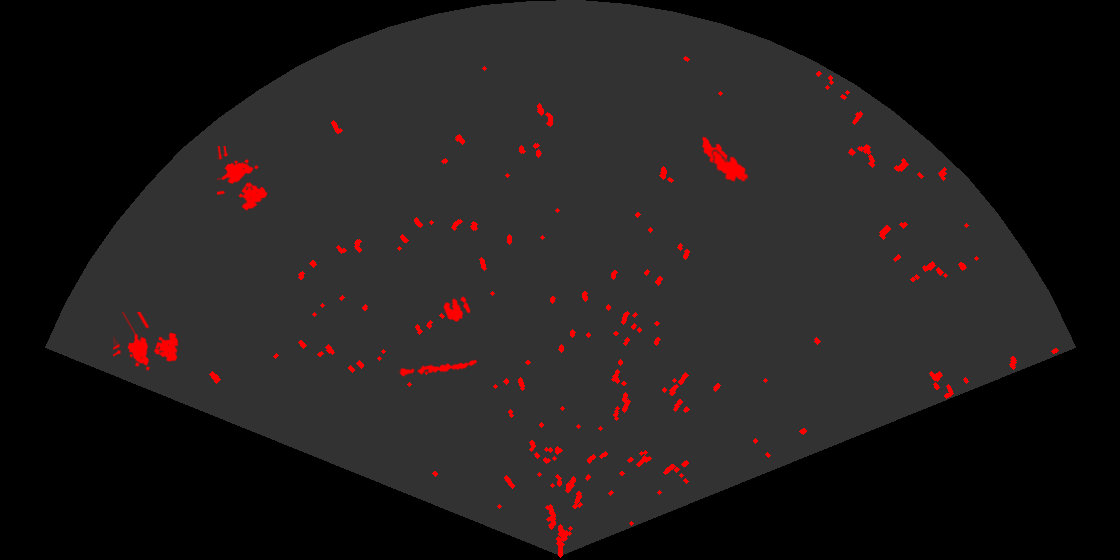AUV: (711, 149, 750, 183), (701, 135, 730, 168)
ball: (442, 295, 472, 323)
cage: (113, 312, 180, 372), (217, 146, 269, 213)
chain: (397, 358, 479, 378)
